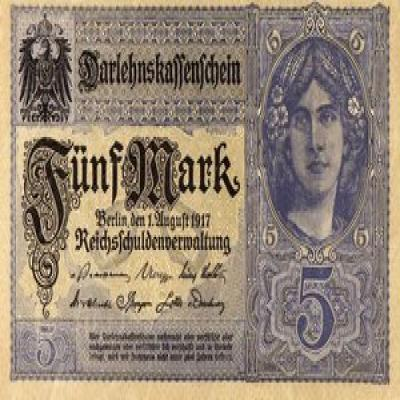numismatics: (9, 2, 392, 385)
